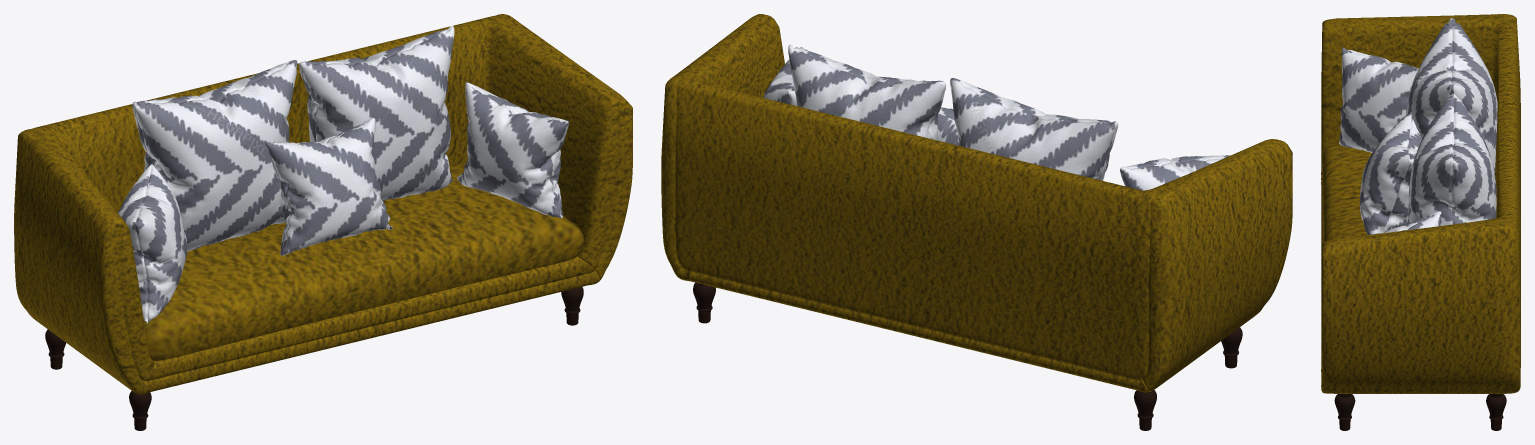
3 renders of one model, left to right at view 1: azimuth 30°, elevation 25°; view 2: azimuth 150°, elevation 25°; view 3: azimuth 270°, elevation 25°, orthographic. The views are drawn at different scales.
Parts seen in each view (by area): view 1: couch, pillow_02_geo, seat, Legs_02_geo; view 2: couch, pillow_02_geo, Legs_02_geo; view 3: couch, pillow_02_geo, seat, Legs_02_geo.
Boxes of the visible parts, x1,y1,x2,y2 form: couch: (14,14,632,394); pillow_02_geo: (118,26,568,323); seat: (144,162,583,360); Legs_02_geo: (45,287,583,430); couch: (661,14,1292,392); pillow_02_geo: (763,44,1229,190); Legs_02_geo: (693,282,1242,430); couch: (1321,14,1520,393); pillow_02_geo: (1339,18,1497,234); seat: (1322,145,1371,242); Legs_02_geo: (1334,394,1506,430).
Bounding box in the file's own units: 2.09 × 1.03 × 0.7535.
Materials: 4 (3 with a texture image).
